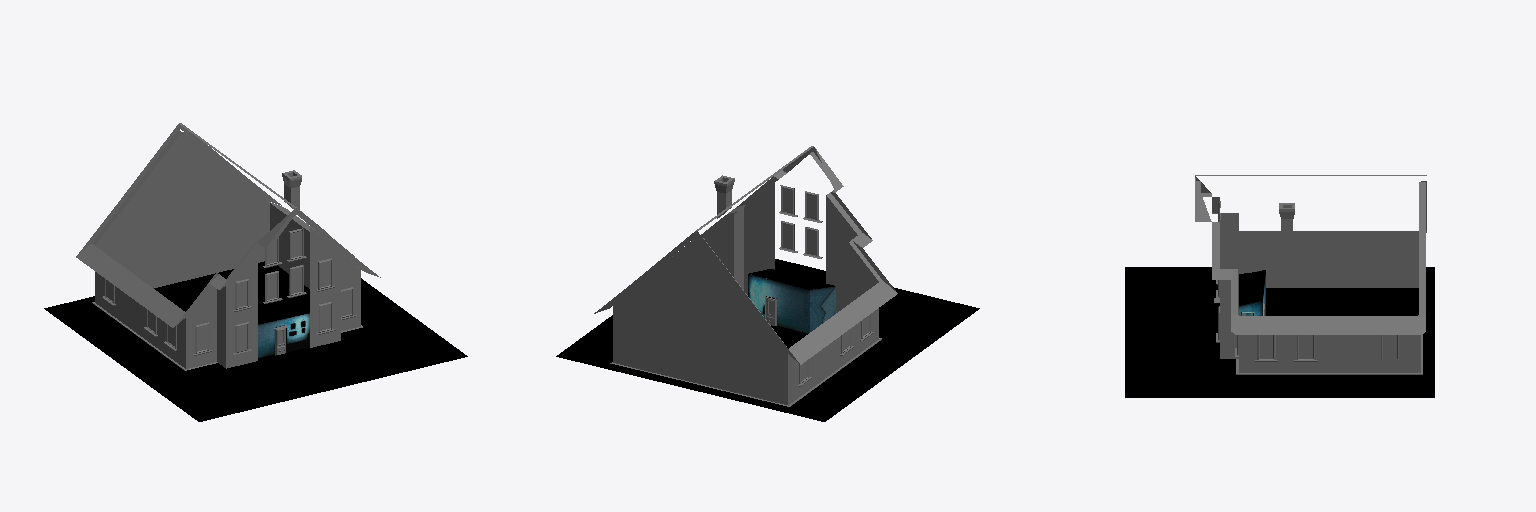
3 views of the same model, side by side, from view 1: azimuth 30°, elevation 25°; view 2: azimuth 150°, elevation 25°; view 3: azimuth 270°, elevation 25° (orthographic).
Parts seen in each view (by area): view 1: pPlane1, MeshpolySurface422, MeshpolySurface428, MeshpolySurface392, MeshpolySurface384, MeshpolySurface393, MeshpolySurface383, walls, MeshpolySurface386, MeshpolySurface421, rest, MeshpolySurface420 (+1 smaller); view 2: MeshpolySurface422, pPlane1, walls, MeshpolySurface428, MeshpolySurface392, MeshpolySurface384, MeshpolySurface393, MeshpolySurface386, MeshpolySurface420, MeshpolySurface383, MeshpolySurface439, rest; view 3: pPlane1, MeshpolySurface384, MeshpolySurface421, MeshpolySurface430, MeshpolySurface440, MeshpolySurface439, rest, MeshpolySurface424.
Part boxes in pixels (x1,y1,x2,y2): pPlane1: (44, 261, 467, 421); MeshpolySurface422: (95, 132, 269, 288); MeshpolySurface428: (76, 130, 219, 327); MeshpolySurface392: (310, 227, 340, 347); MeshpolySurface384: (95, 272, 185, 368); MeshpolySurface393: (226, 248, 257, 368); MeshpolySurface383: (186, 285, 216, 368); walls: (258, 313, 309, 357); MeshpolySurface386: (76, 124, 281, 256); MeshpolySurface421: (270, 203, 309, 288); rest: (258, 287, 309, 358); MeshpolySurface420: (341, 253, 360, 330); MeshpolySurface422: (613, 237, 787, 404); pPlane1: (556, 259, 979, 421); walls: (748, 274, 835, 333); MeshpolySurface428: (703, 238, 897, 364); MeshpolySurface392: (744, 183, 774, 294); MeshpolySurface384: (788, 308, 878, 405); MeshpolySurface393: (826, 195, 857, 312); MeshpolySurface386: (594, 231, 799, 363); MeshpolySurface420: (705, 215, 733, 276); MeshpolySurface383: (849, 243, 878, 303); MeshpolySurface439: (734, 207, 743, 289); rest: (749, 269, 834, 334); pPlane1: (1125, 267, 1434, 397); MeshpolySurface384: (1239, 231, 1418, 287); MeshpolySurface421: (1239, 335, 1420, 372); MeshpolySurface430: (1231, 182, 1425, 334); MeshpolySurface440: (1220, 213, 1238, 268); MeshpolySurface439: (1220, 269, 1238, 358); rest: (1239, 270, 1265, 305); MeshpolySurface424: (1212, 222, 1232, 279).
Size of the model in its own units: 48 by 27.03 by 48.
15 materials, 2 textured.